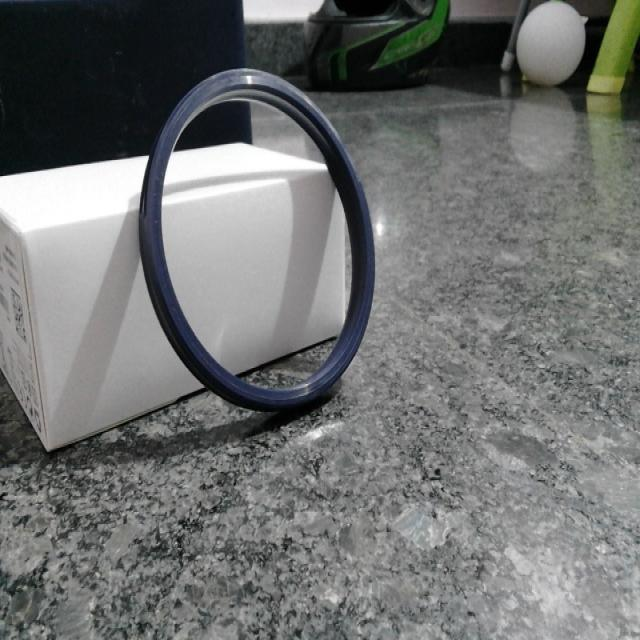purple-ring: (140, 68, 375, 412)
